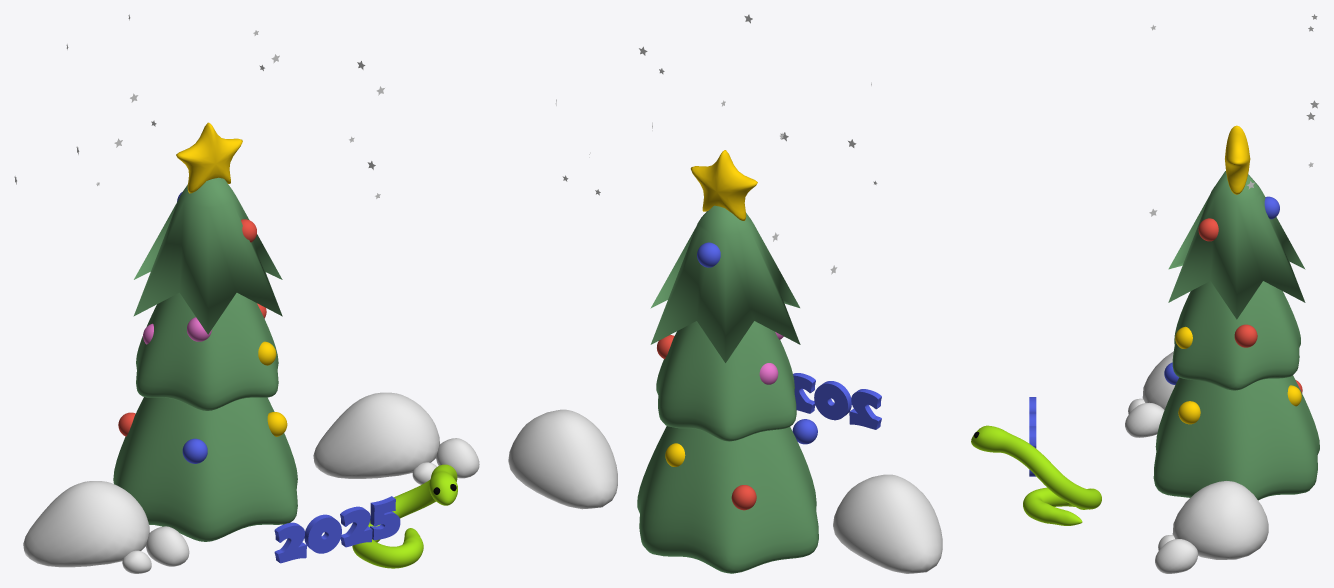
The picture shows the model from 3 angles, left to right: view 1: azimuth 30°, elevation 25°; view 2: azimuth 150°, elevation 25°; view 3: azimuth 270°, elevation 25°; orthographic projection. The views are drawn at different scales.
Parts seen in each view (by area): view 1: Cylinder.002, Cylinder.003, Cylinder.001, Sphere.018, Sphere.001, Text, Zmeya, Zvezda; view 2: Cylinder.002, Cylinder.003, Cylinder.001, Sphere.018, Sphere.001, Text, Zvezda; view 3: Cylinder.002, Cylinder.003, Cylinder.001, Sphere.001, Zmeya, Sphere.018, Zvezda.
Part boxes in pixels (x1,y1,x2,y2): Cylinder.002: (113,397,297,541); Cylinder.003: (133,177,282,334); Cylinder.001: (136,292,278,410); Sphere.018: (23,481,189,573); Sphere.001: (313,392,479,484); Text: (274,496,400,563); Zmeya: (352,464,457,568); Zvezda: (176,122,242,193); Cylinder.002: (637,426,818,573); Cylinder.003: (650,205,800,362); Cylinder.001: (656,321,796,441); Sphere.018: (833,474,942,573); Sphere.001: (508,409,617,509); Text: (793,373,881,429); Zvezda: (690,150,757,220); Cylinder.002: (1153,375,1319,500); Cylinder.003: (1168,171,1305,319); Cylinder.001: (1172,281,1300,390); Sphere.001: (1155,481,1268,573); Zmeya: (971,425,1101,525); Sphere.018: (1125,351,1174,437); Zvezda: (1225,125,1250,194).
Bounding box in the file's own units: 1.96 × 2.09 × 1.5.
